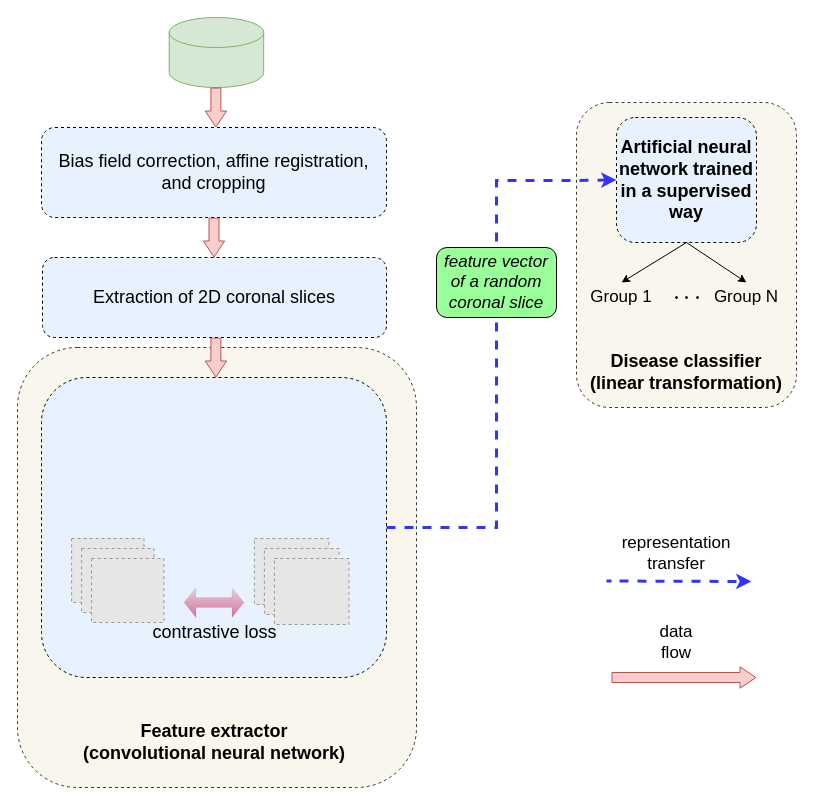
Some shapes in this 814 by 805 pixel diagram are drawn without their labels. Grey dashed boxes stand in for pictures. The box of each missing label's shape, as (x1, y1, x2, y2) in pixels:
Artificial neural network trained via contrastive self-supervised approach: (40, 376, 386, 678)
Data (training set): (168, 16, 264, 88)
